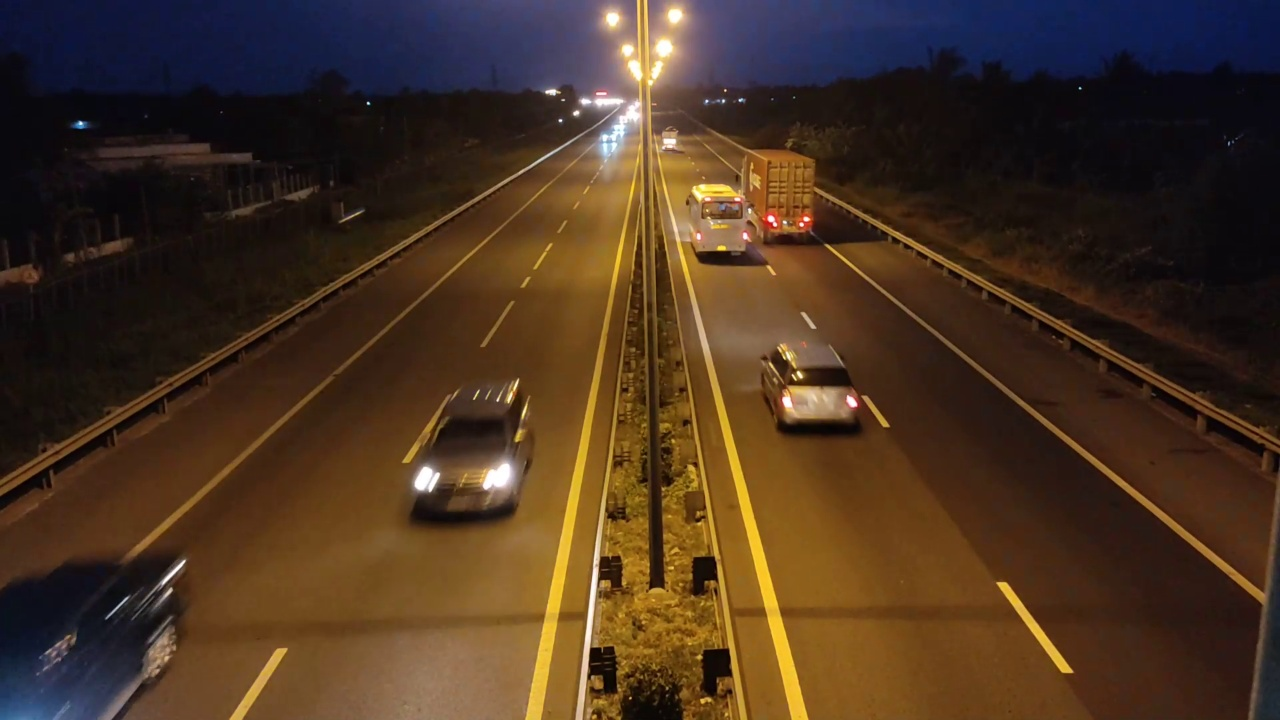bus: (685, 182, 753, 257)
car: (404, 376, 535, 522), (759, 340, 864, 433)
truck: (741, 146, 817, 244)
